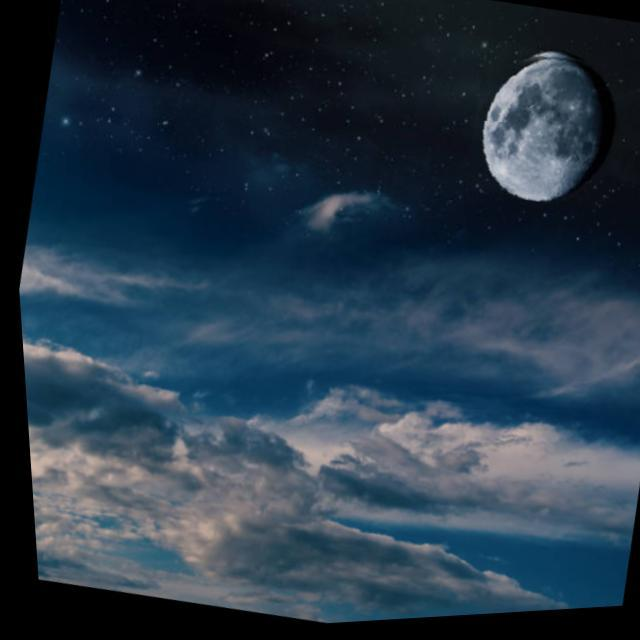moon: (454, 40, 638, 226)
